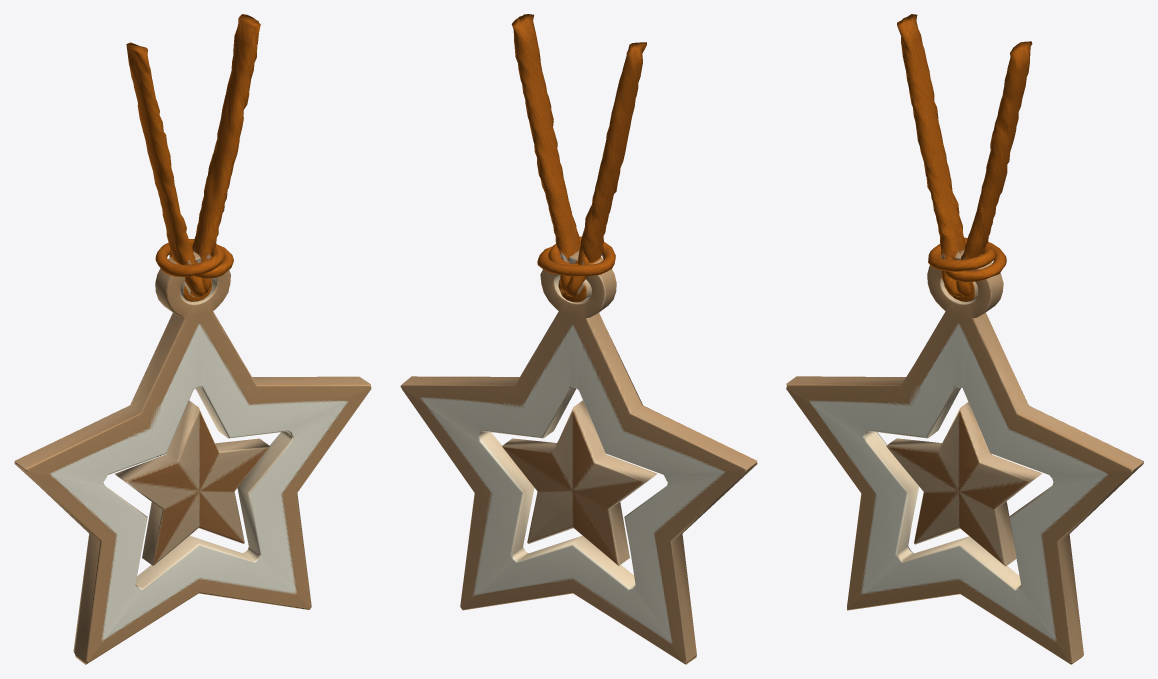
The model's file is star-charm_refine.glb.
3 views of the same model, side by side, from view 1: azimuth 30°, elevation 25°; view 2: azimuth 150°, elevation 25°; view 3: azimuth 330°, elevation 25° (orthographic).
Size of the model in its own units: 0.5757 by 0.9526 by 0.1089.
Materials: 1 (1 with a texture image).
